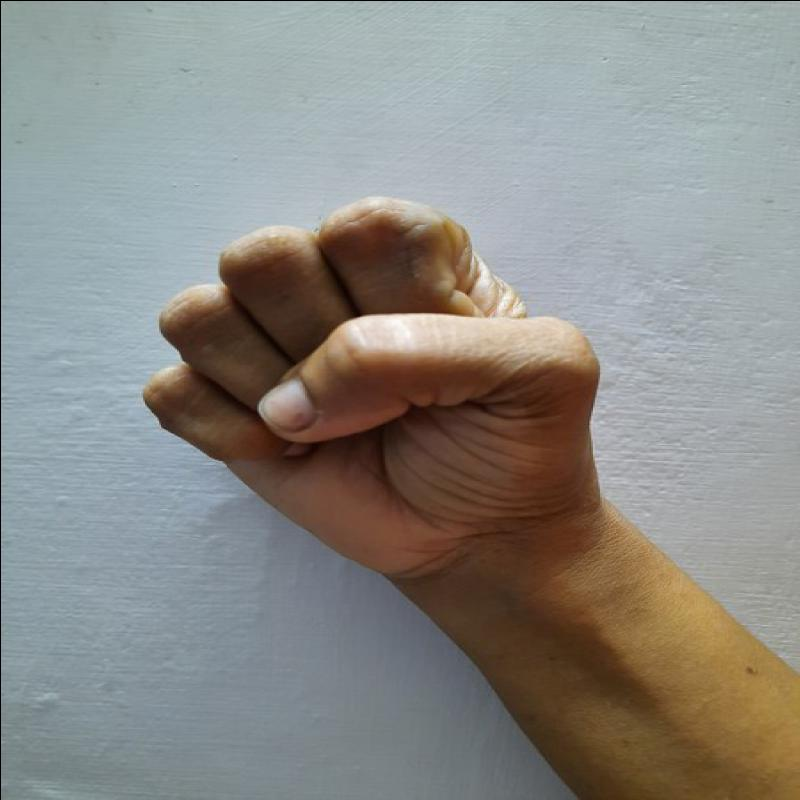Mushti: (131, 183, 629, 592)
